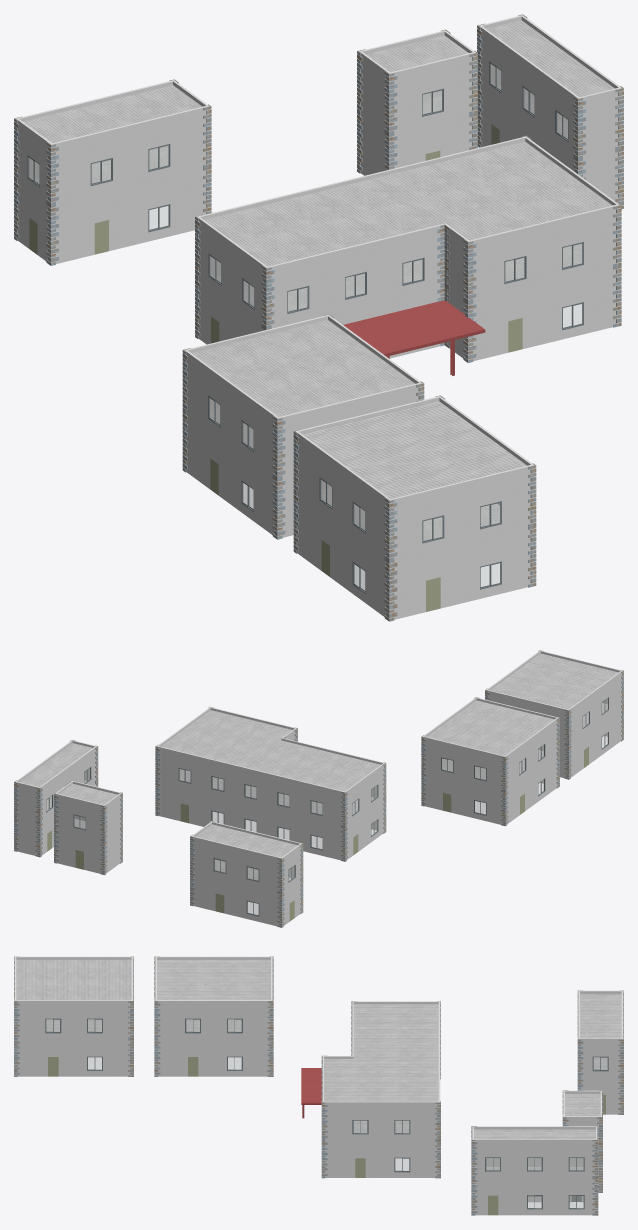
Rendered from Plan(REF)_levels(2)_window(W Sliding2 23_4)_wall(WAFRA WALL)_quoin(Y)_cornice(N).fbx.
3 views of the same model, one above another, from view 1: azimuth 30°, elevation 25°; view 2: azimuth 150°, elevation 25°; view 3: azimuth 270°, elevation 25° (orthographic). The views are drawn at different scales.
Parts seen in each view (by area): view 1: WAFRA Stucco - White Rough 23, WAFRA Roof - Corrugated Sheet Matte 23, WAFRA Stone - Slate Natural 23, Glass - Clear, Metal - Finish - Aluminum, WAFRA Roof - Standing Seam Red Coat 23, Color - White, Color - Beige; view 2: WAFRA Stucco - White Rough 23, WAFRA Roof - Corrugated Sheet Matte 23, WAFRA Stone - Slate Natural 23, Glass - Clear, Metal - Finish - Aluminum, Color - White, Color - Beige; view 3: WAFRA Stucco - White Rough 23, WAFRA Roof - Corrugated Sheet Matte 23, WAFRA Stone - Slate Natural 23, Glass - Clear, Metal - Finish - Aluminum, Color - White, Color - Beige, WAFRA Roof - Standing Seam Red Coat 23.
Boxes of the visible parts, box(x1,y1,x2,y2) form: WAFRA Stucco - White Rough 23: box(16, 15, 621, 619); WAFRA Roof - Corrugated Sheet Matte 23: box(23, 20, 614, 540); WAFRA Stone - Slate Natural 23: box(14, 14, 623, 621); Glass - Clear: box(29, 64, 581, 590); Metal - Finish - Aluminum: box(27, 61, 583, 593); WAFRA Roof - Standing Seam Red Coat 23: box(343, 300, 485, 375); Color - White: box(14, 29, 623, 618); Color - Beige: box(29, 124, 522, 611); WAFRA Stucco - White Rough 23: box(15, 650, 622, 926); WAFRA Roof - Corrugated Sheet Matte 23: box(19, 653, 618, 880); WAFRA Stone - Slate Natural 23: box(14, 650, 623, 927); Glass - Clear: box(46, 698, 607, 914); Metal - Finish - Aluminum: box(46, 697, 608, 916); Color - White: box(14, 675, 623, 925); Color - Beige: box(47, 747, 588, 921); WAFRA Stucco - White Rough 23: box(14, 956, 623, 1215); WAFRA Roof - Corrugated Sheet Matte 23: box(16, 959, 621, 1170); WAFRA Stone - Slate Natural 23: box(14, 956, 623, 1215); Glass - Clear: box(46, 1019, 607, 1207); Metal - Finish - Aluminum: box(45, 1018, 608, 1209); Color - White: box(14, 958, 623, 1213); Color - Beige: box(48, 1057, 605, 1215); WAFRA Roof - Standing Seam Red Coat 23: box(301, 1068, 321, 1118).
Bounding box in the file's own units: 4163 × 5848 × 800.
Materials: 12 (5 with a texture image).
